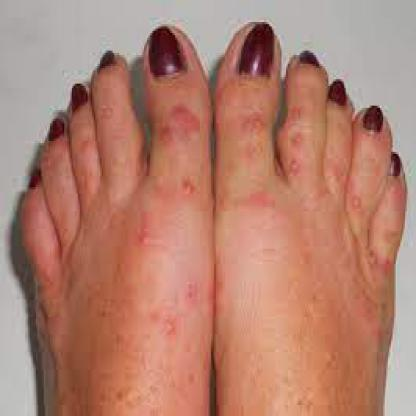Fire ant: (156, 95, 198, 143), (285, 102, 305, 178), (356, 293, 381, 348), (240, 110, 264, 158), (147, 308, 177, 334), (133, 209, 152, 247), (30, 246, 48, 282), (249, 185, 275, 207), (218, 77, 240, 103), (175, 172, 197, 196), (375, 247, 391, 275), (388, 178, 404, 206), (76, 172, 96, 194), (18, 203, 38, 221), (182, 278, 198, 300), (72, 136, 94, 152), (325, 158, 341, 180), (349, 187, 363, 209), (53, 136, 67, 154), (98, 104, 112, 116)
